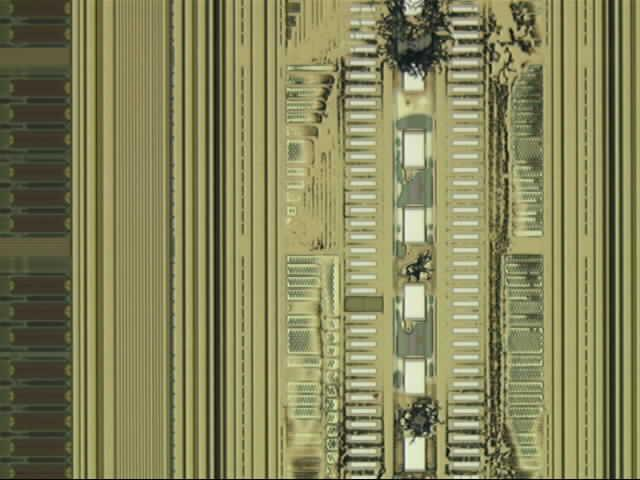PO CONTAMINATION: (279, 1, 548, 480)
